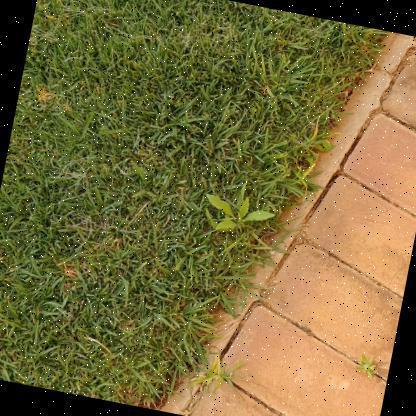Weeds: (200, 189, 278, 241)
